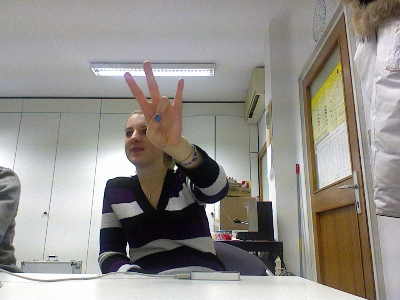观音: (123, 60, 184, 149)
